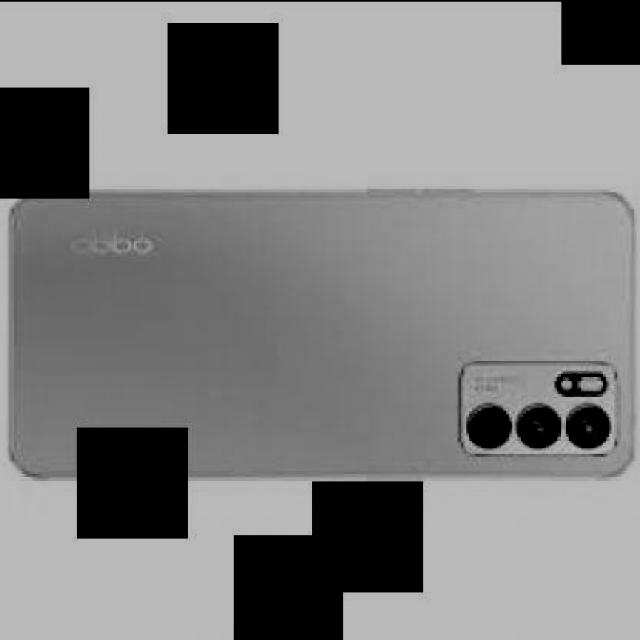fake: (6, 188, 637, 478)
